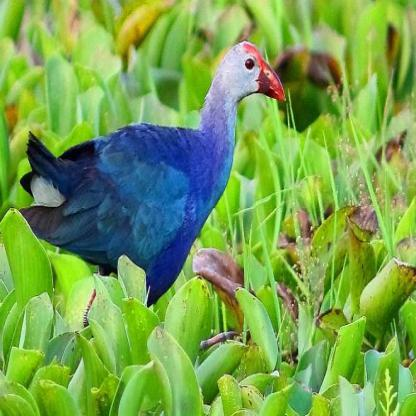Burung: (13, 41, 285, 311)
